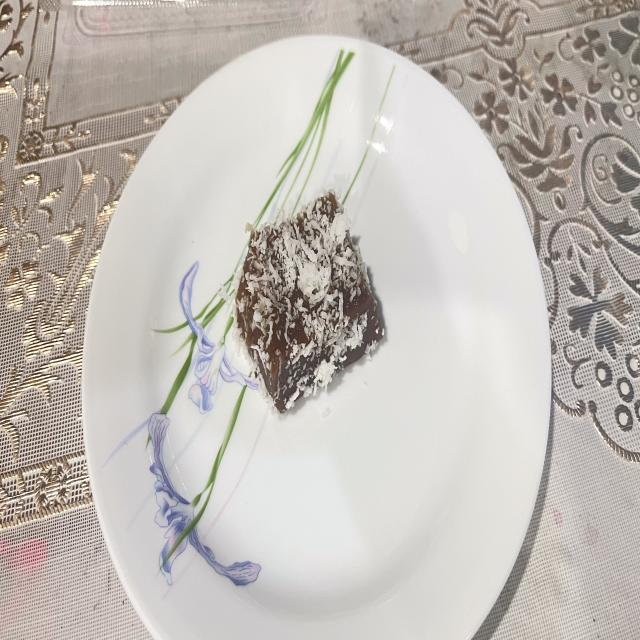kaswi: (236, 191, 384, 413)
